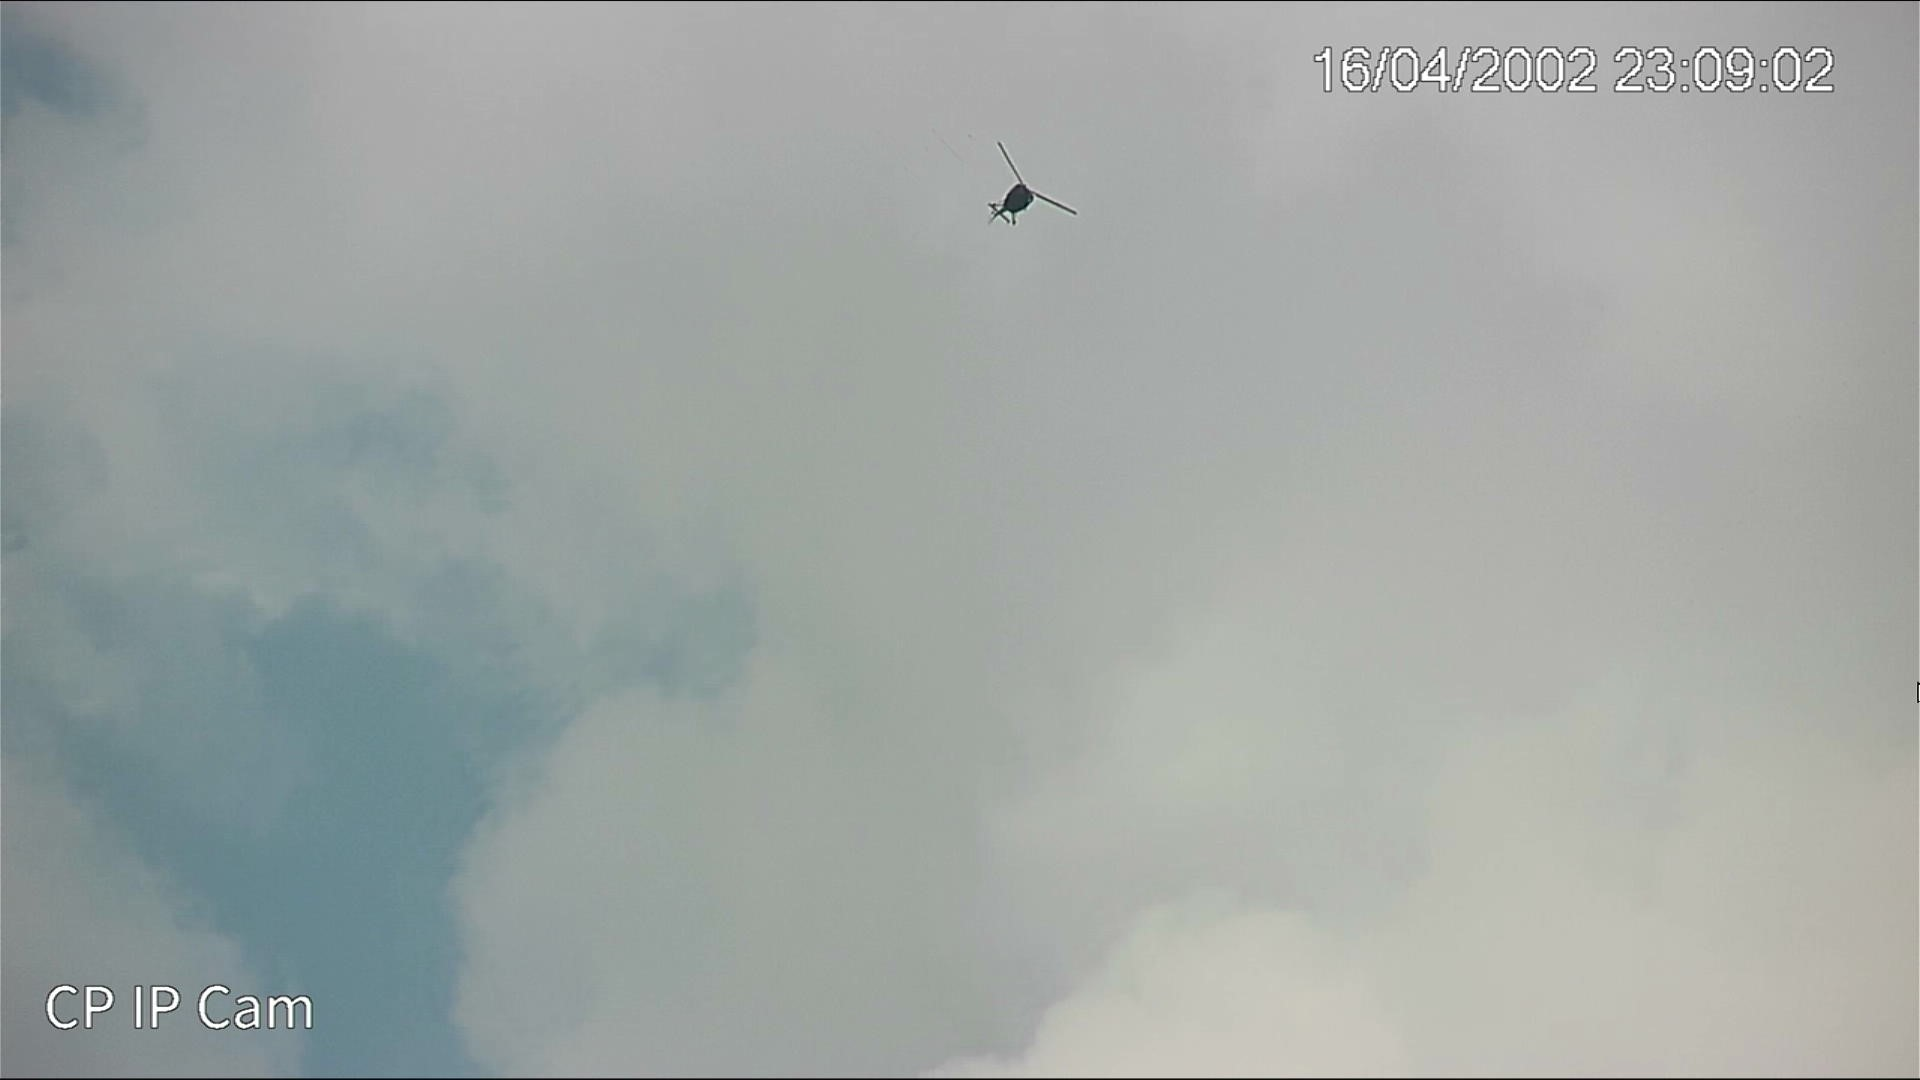SU_30: (982, 171, 1046, 224)
